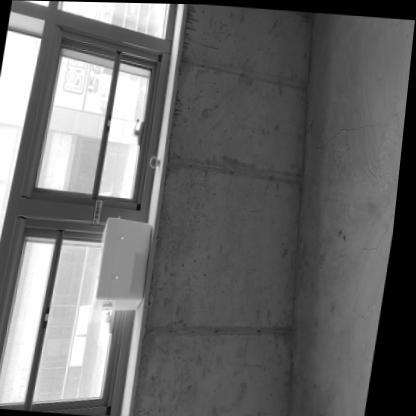DDL: (96, 216, 157, 311)
